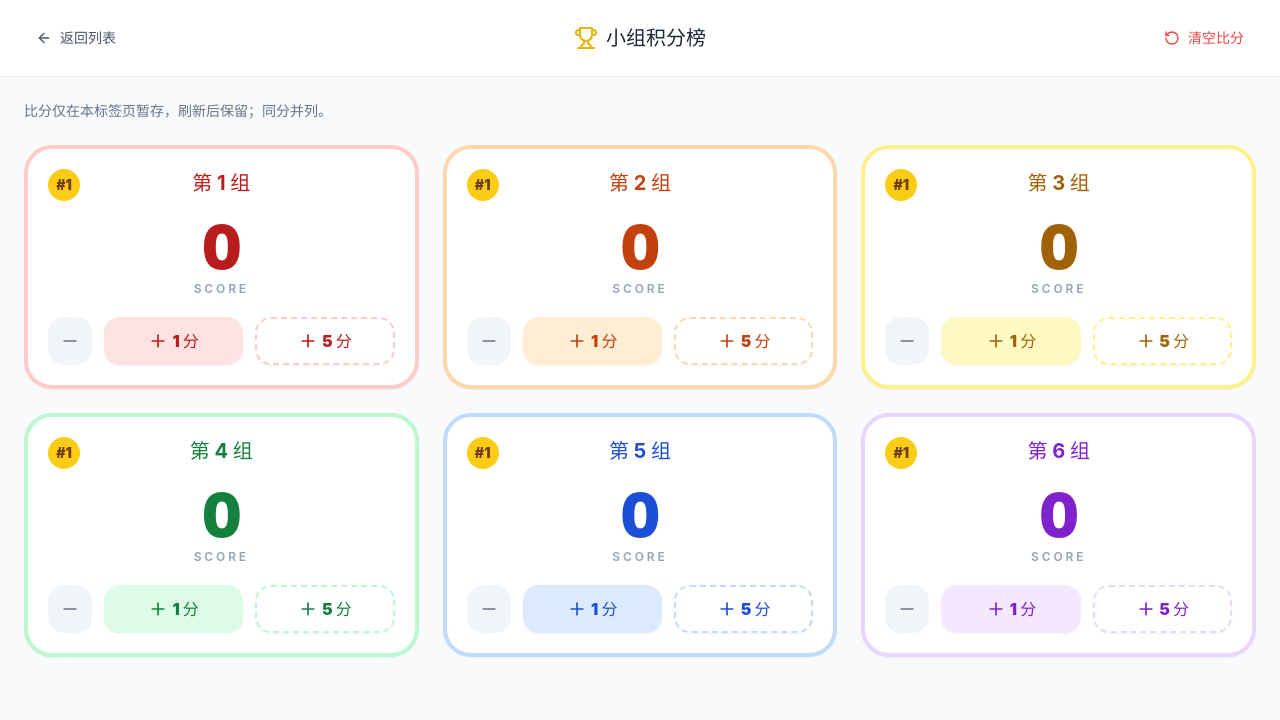
Test: tool pages mobile smoke tests › updates scoreboard scores and can reset them
Click the button named "第 1 组 加 5 分" at (325, 341), box [255,317,395,365]
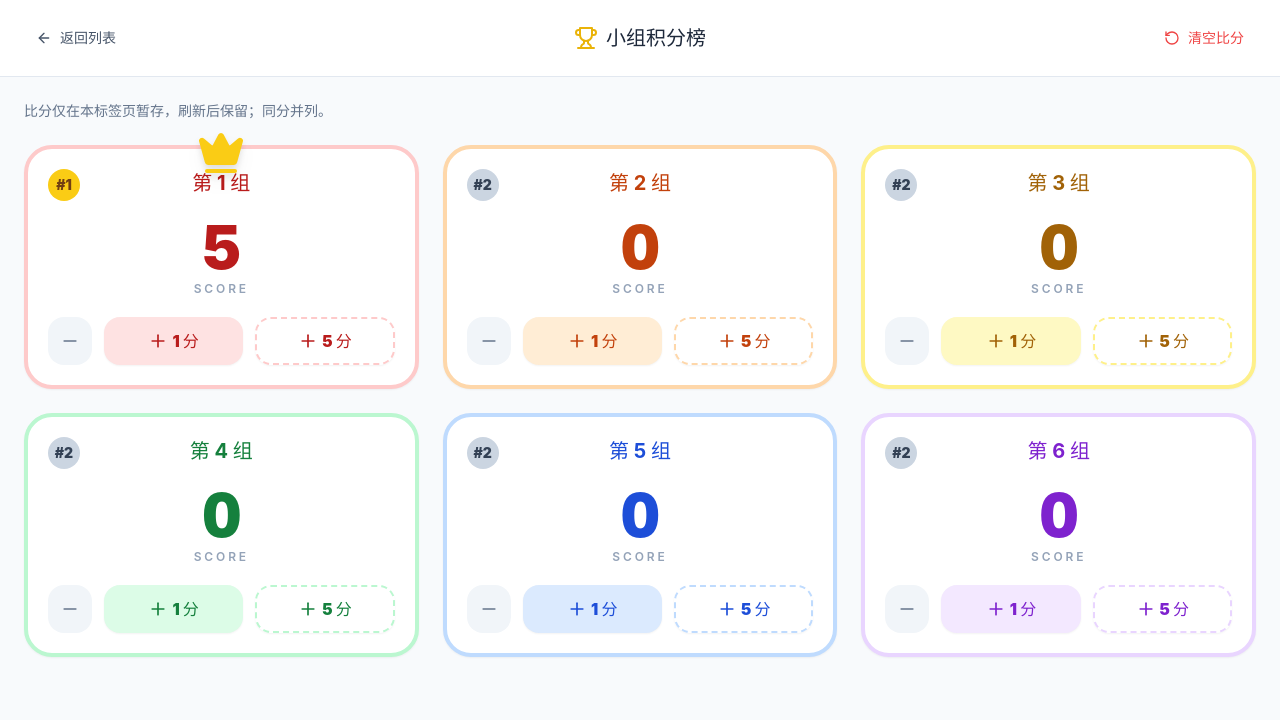
Expected: the text "5" is shown, [202,211,240,283]
Click the button "清空比分" at (1204, 38), box [1152,16,1256,60]
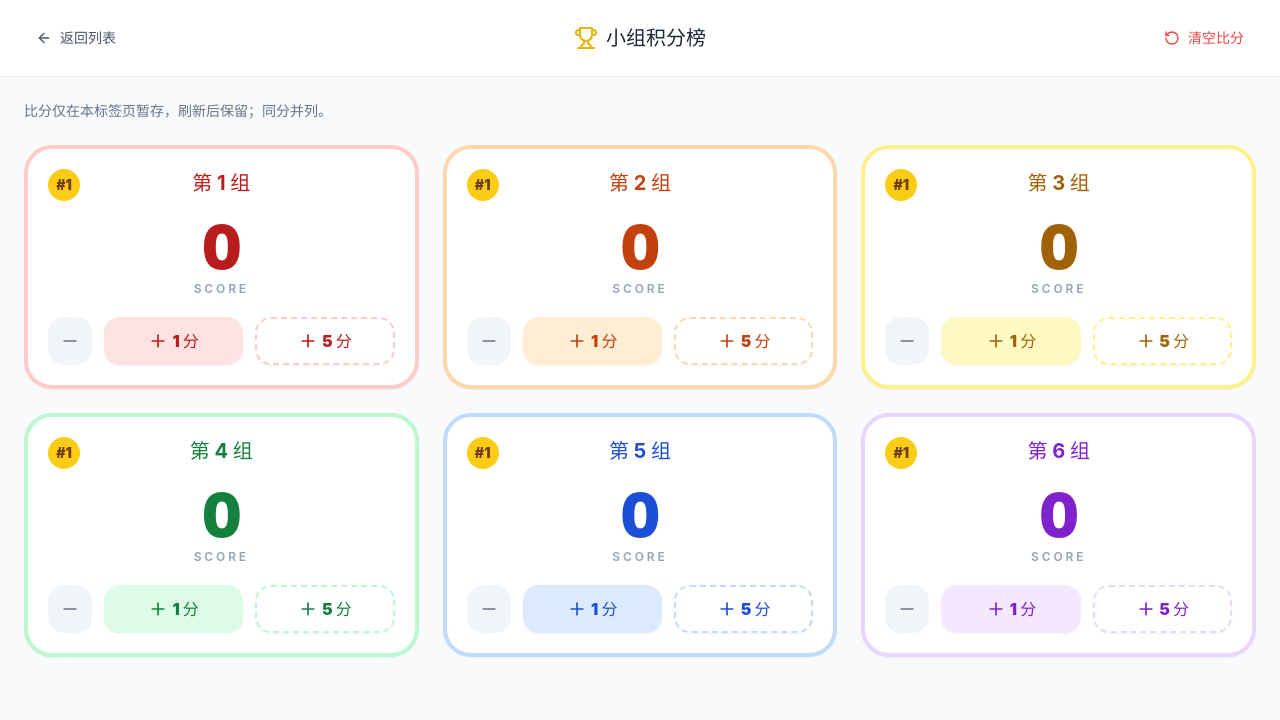
Expected: the text "0" below "第 1 组" is shown, [202,211,240,283]
